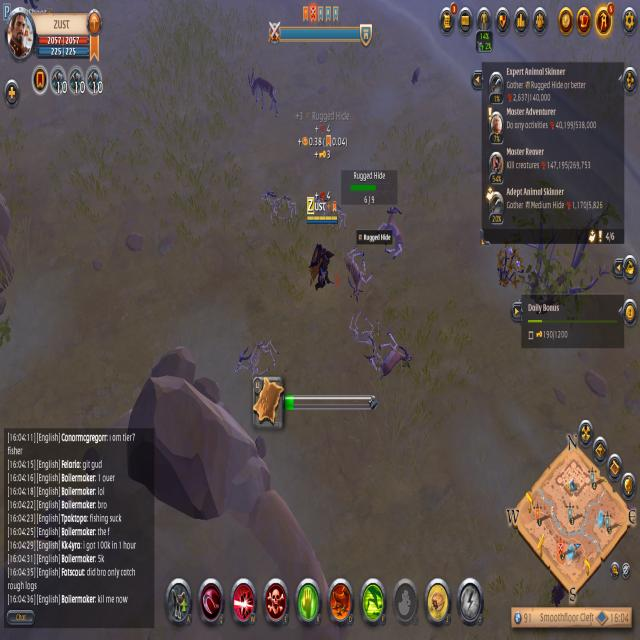deer_alive: (238, 67, 288, 125)
deer_dead: (370, 328, 416, 391), (342, 244, 381, 312), (377, 202, 414, 266)
harvesting: (286, 385, 382, 425)
